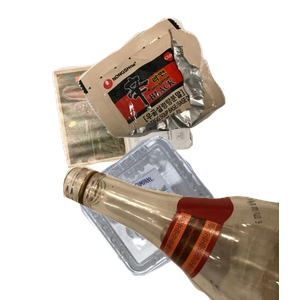glass: (60, 120, 300, 300)
paper: (49, 51, 235, 212)
plastic: (77, 133, 289, 300)
trash: (76, 15, 300, 145)
